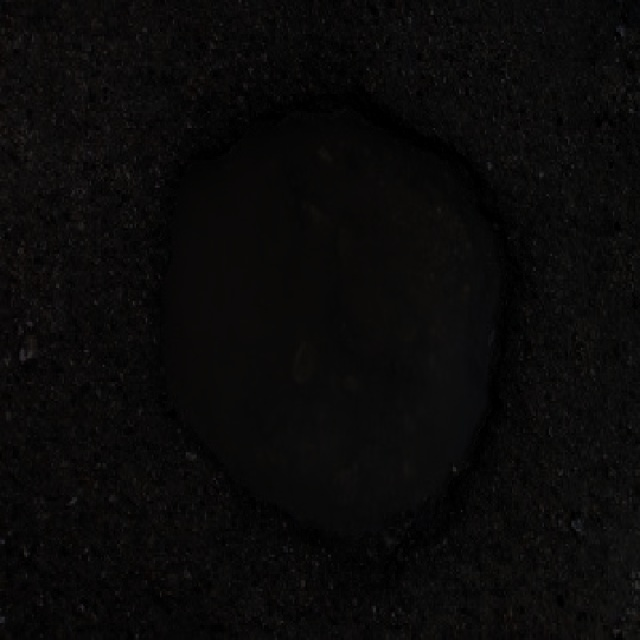Pothole: (151, 81, 524, 578)
